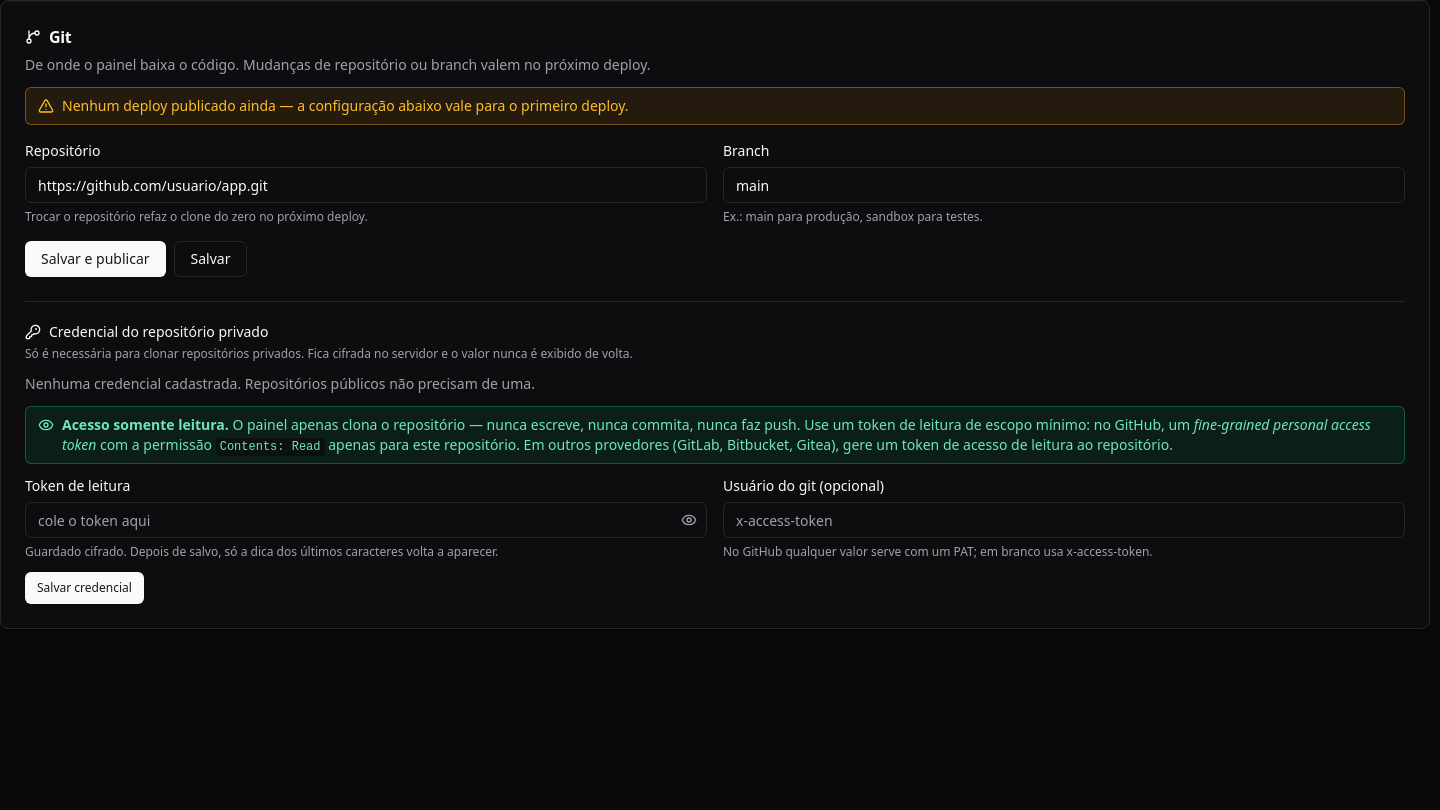
Scenario: ProjectConfigCard › mostra a mensagem de erro da API quando o salvamento falha
The width and height of the screenshot is (1440, 810).
Replace the text in the field labelled "Branch" with "x" at (1064, 185), box [723,167,1405,203]
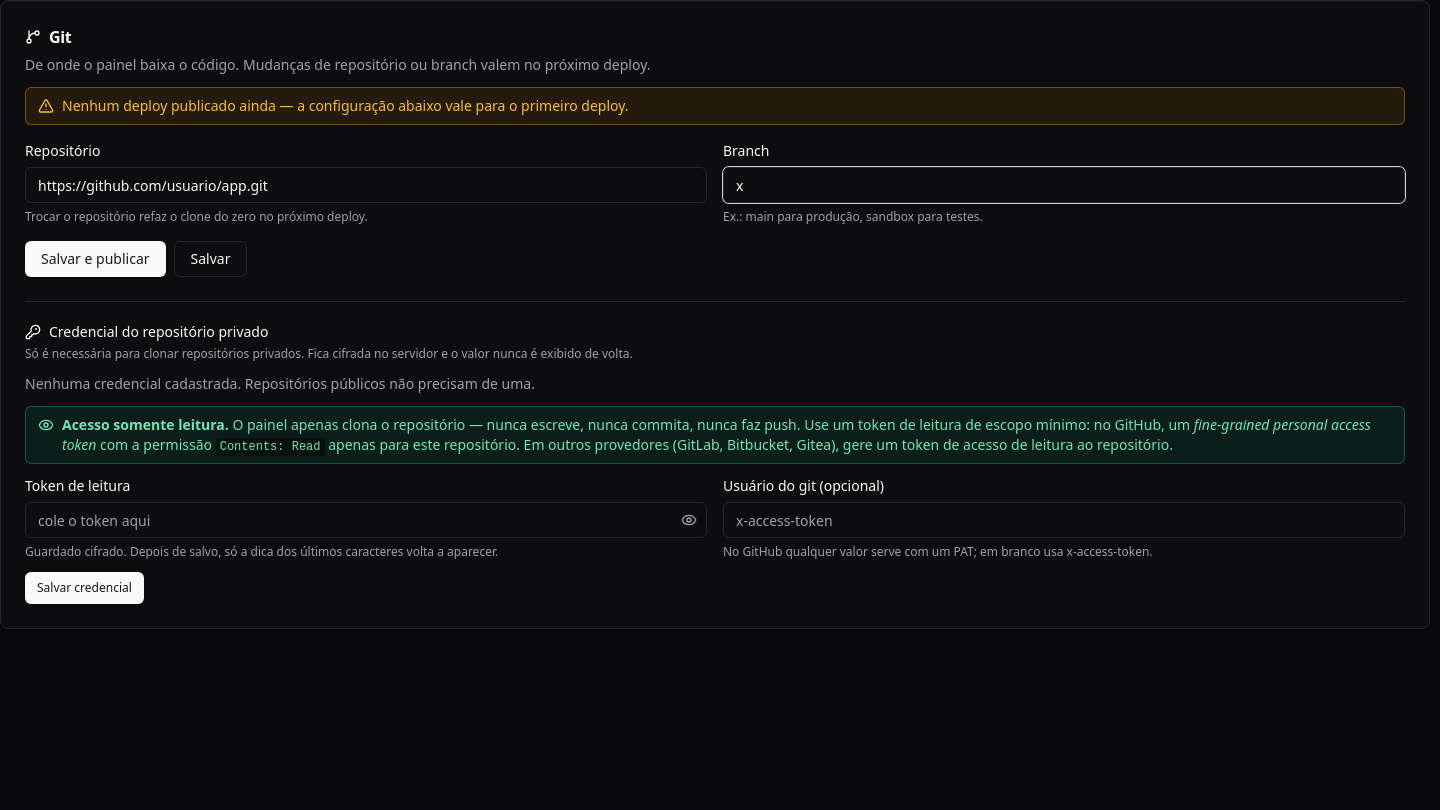
Click the button "Salvar" at (210, 259), box [174,241,247,277]
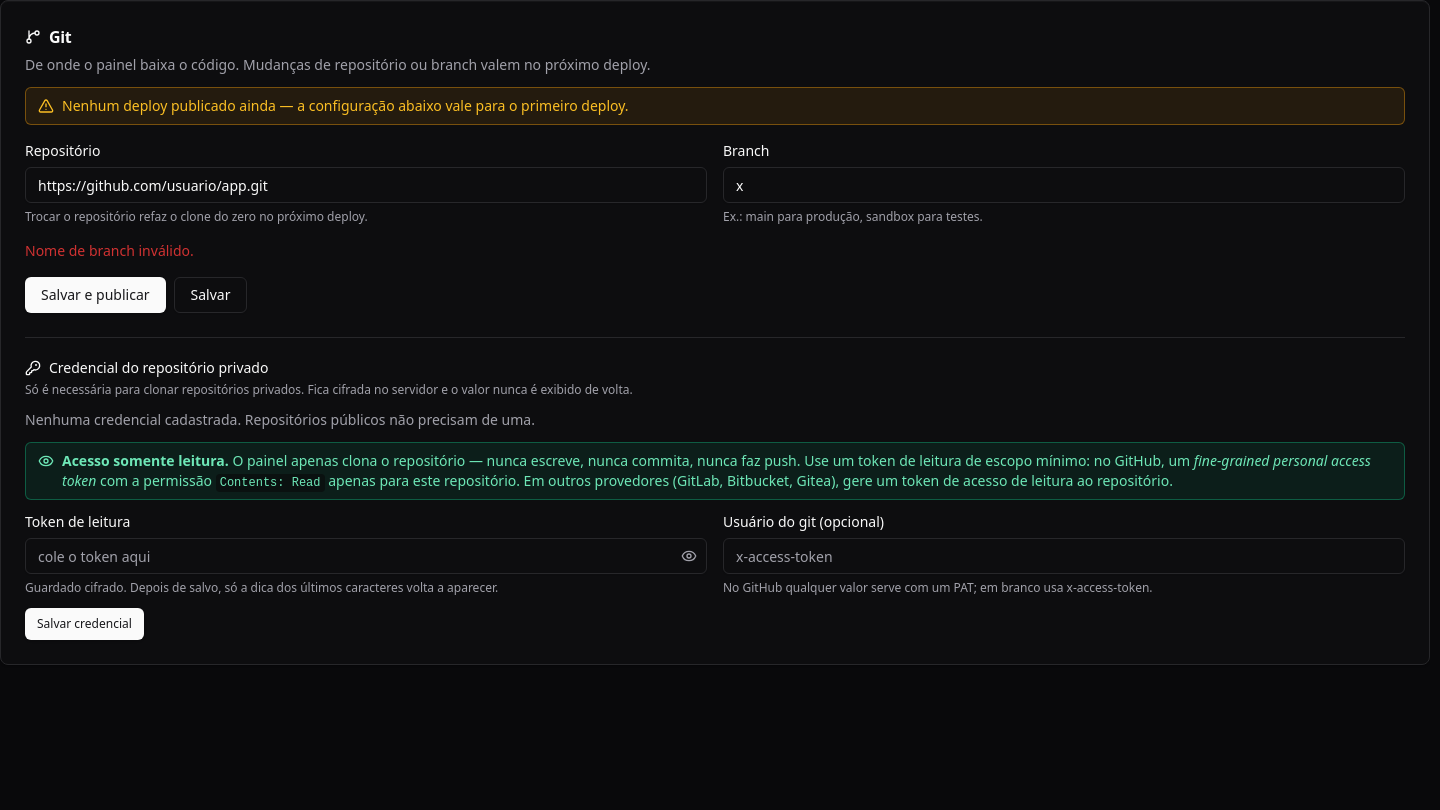
expect the text "Nome de branch inválido." is shown: met, box [25,241,194,260]
